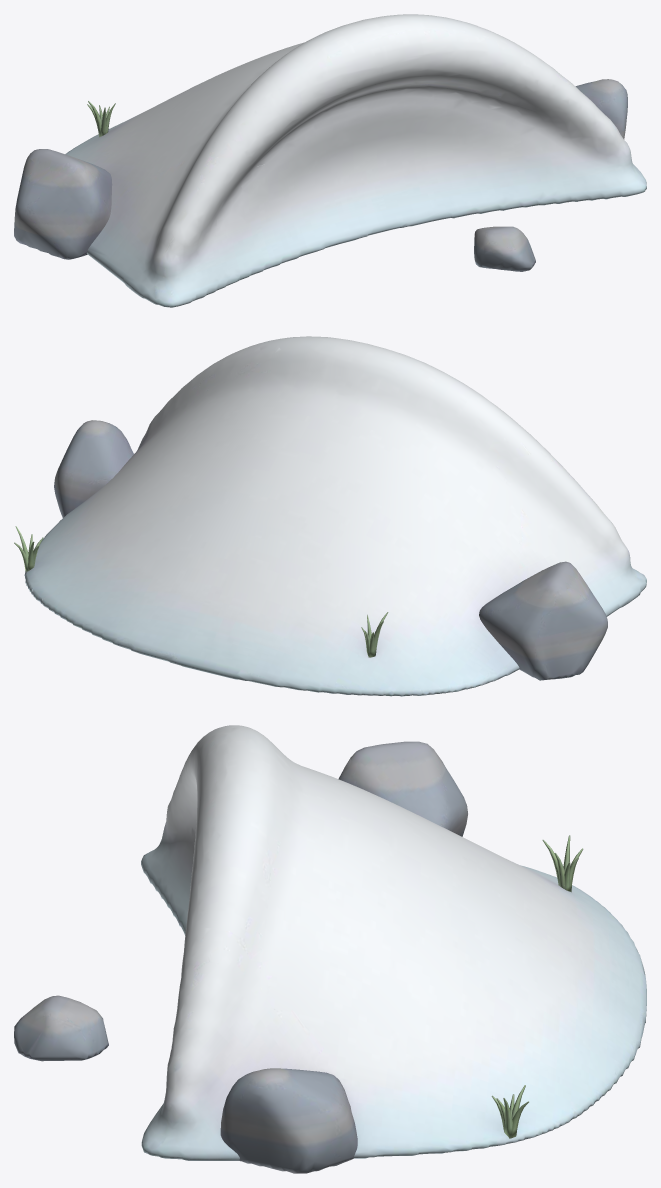
Rendered from monton_nieve.glb.
3 views of the same model, one above another, from view 1: azimuth 30°, elevation 25°; view 2: azimuth 150°, elevation 25°; view 3: azimuth 270°, elevation 25° (orthographic). The views are drawn at different scales.
Parts seen in each view (by area): view 1: snow-drift_body; view 2: snow-drift_body; view 3: snow-drift_body.
Part boxes in pixels (box(x1,y1,x2,y2)): snow-drift_body: box(14, 14, 646, 307); snow-drift_body: box(14, 336, 646, 696); snow-drift_body: box(14, 725, 646, 1173).
Bounding box in the file's own units: 3.09 × 1.04 × 2.36.
Materials: 1 (1 with a texture image).
